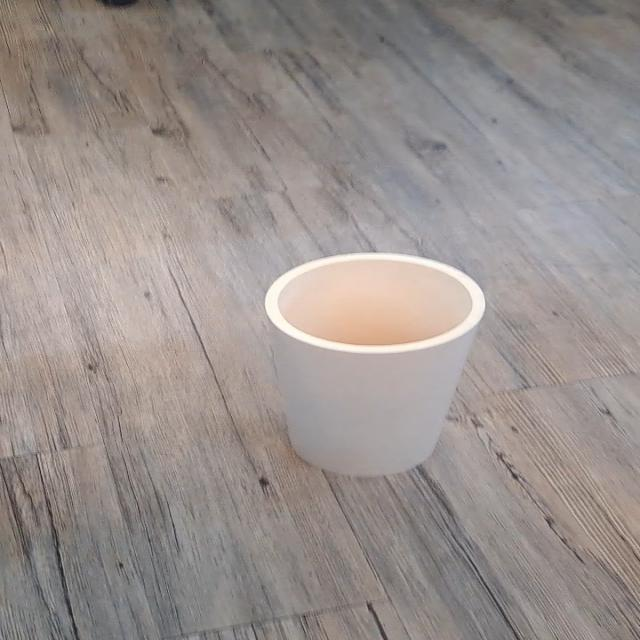CORAL: (229, 223, 506, 508)
